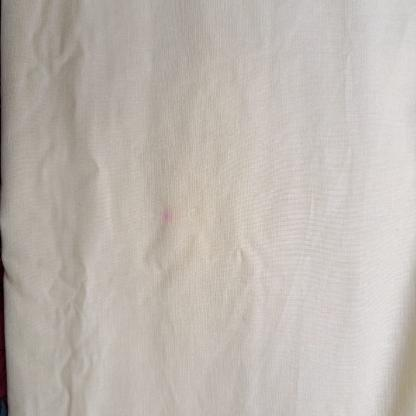spot: (157, 208, 175, 228)
